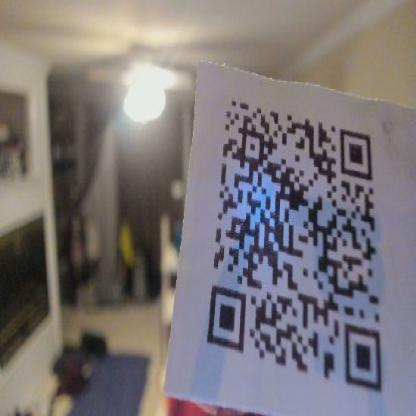qr: (207, 96, 388, 390)
